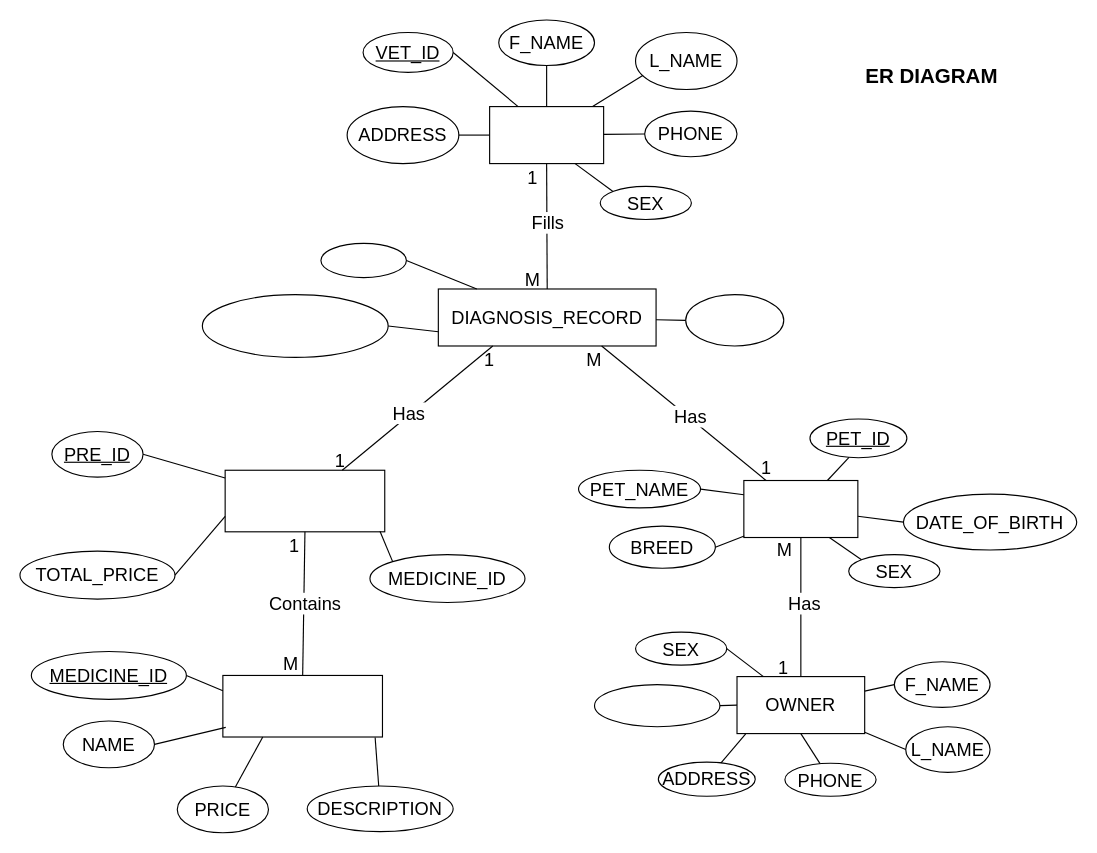
This 1097x853 diagram has some shape labels left out. Here are the shapes that lost their labels. From the top down, the box of each, then its label:
(488, 105, 604, 164): VET
(320, 242, 406, 278): DR_ID
(201, 294, 388, 357): DATE_OF_RECORD
(685, 294, 784, 346): DETAIL
(224, 469, 385, 532): Prescription
(743, 479, 858, 538): PET
(222, 674, 382, 737): MEDICINE
(593, 683, 720, 727): OWNER_ID
